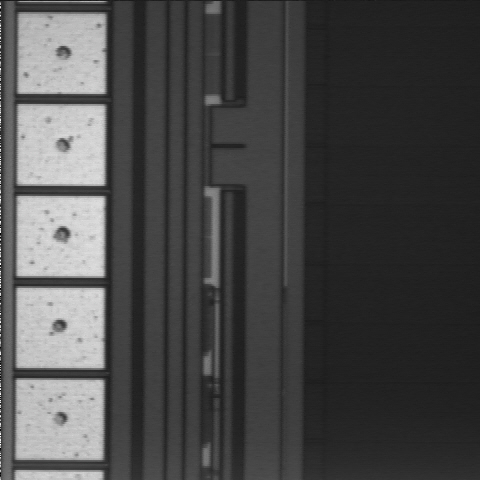pad: (18, 105, 105, 186), (17, 196, 104, 276), (17, 288, 104, 368), (16, 380, 103, 460), (19, 14, 105, 94)
